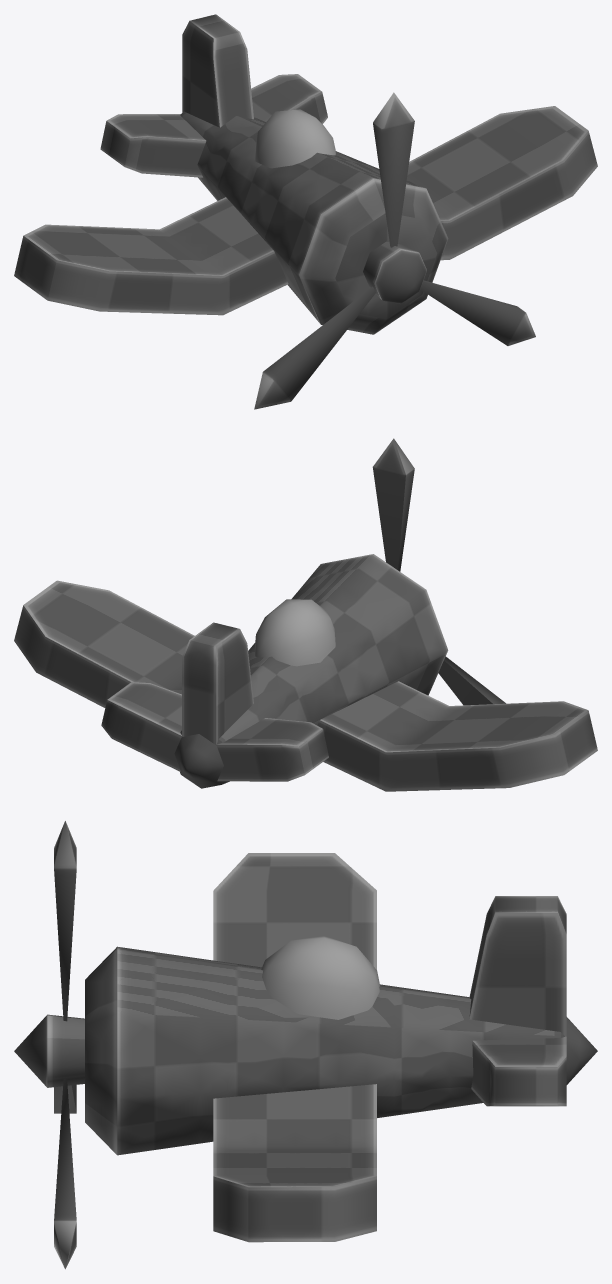
3 views of the same model, one above another, from view 1: azimuth 30°, elevation 25°; view 2: azimuth 150°, elevation 25°; view 3: azimuth 270°, elevation 25° (orthographic). The views are drawn at different scales.
Visible parts, largest first — view 1: Flying_vehicle, Propeller; view 2: Flying_vehicle, Propeller; view 3: Flying_vehicle, Propeller.
Part boxes in pixels (x1=…): Flying_vehicle: x1=14, y1=14, x2=597, y2=334; Propeller: x1=254, y1=92, x2=535, y2=409; Flying_vehicle: x1=14, y1=554, x2=597, y2=791; Propeller: x1=372, y1=438, x2=505, y2=705; Flying_vehicle: x1=85, y1=853, x2=597, y2=1242; Propeller: x1=14, y1=821, x2=84, y2=1269.
Size of the model in its own units: 118 by 58.2 by 84.42.
